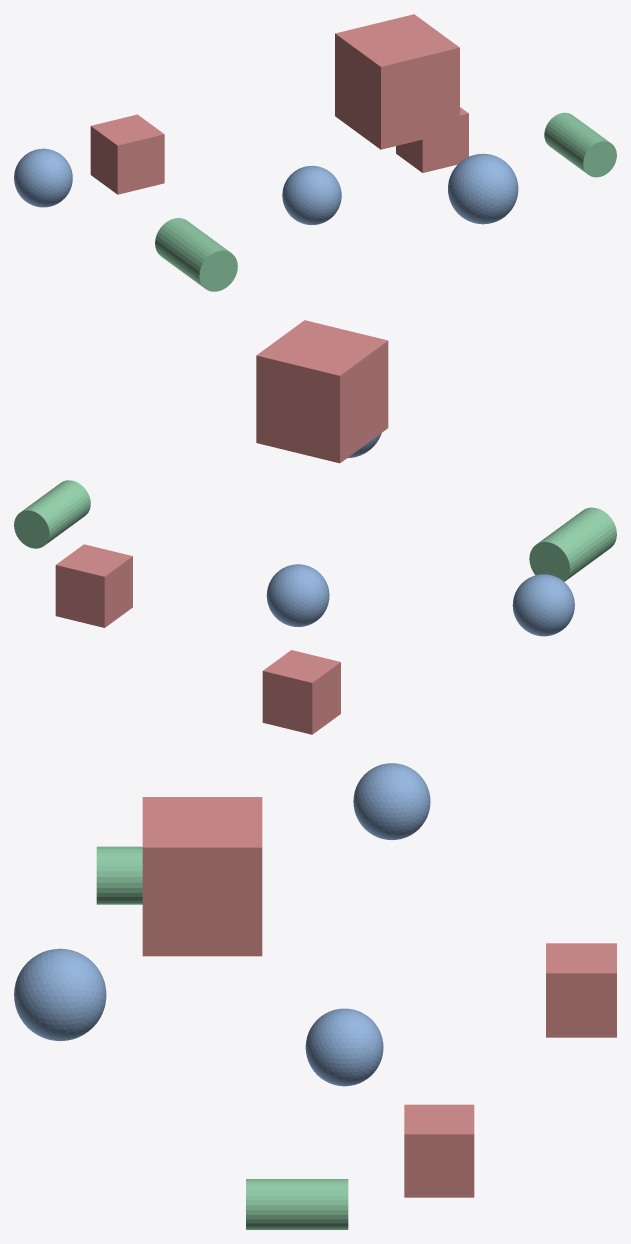
File: escena.glb
The picture shows the model from 3 angles, top to bottom: view 1: azimuth 30°, elevation 25°; view 2: azimuth 150°, elevation 25°; view 3: azimuth 270°, elevation 25°; orthographic projection. The views are drawn at different scales.
Parts seen in each view (by area): view 1: obj_007, obj_004, obj_003, obj_002, obj_005, obj_000, obj_006, obj_001; view 2: obj_007, obj_004, obj_001, obj_002, obj_005, obj_000, obj_006; view 3: obj_007, obj_003, obj_004, obj_001, obj_005, obj_000, obj_006, obj_002.
Part boxes in pixels (box(x1,y1,x2,y2)): obj_007: box(335, 14, 459, 149); obj_004: box(90, 114, 164, 194); obj_003: box(448, 153, 518, 224); obj_002: box(155, 218, 237, 291); obj_005: box(544, 112, 616, 177); obj_000: box(282, 165, 341, 225); obj_006: box(14, 148, 72, 207); obj_001: box(396, 107, 468, 172); obj_007: box(256, 320, 388, 463); obj_004: box(262, 650, 340, 734); obj_001: box(55, 544, 132, 627); obj_002: box(529, 507, 616, 581); obj_005: box(14, 480, 90, 548); obj_000: box(266, 564, 329, 626); obj_006: box(512, 574, 574, 636); obj_007: box(142, 797, 262, 956); obj_003: box(14, 948, 106, 1041); obj_004: box(546, 943, 616, 1037); obj_001: box(404, 1104, 474, 1197); obj_005: box(246, 1179, 348, 1229); obj_000: box(305, 1008, 383, 1086); obj_006: box(353, 763, 430, 840); obj_002: box(96, 846, 142, 904).
Size of the model in its own units: 8.68 by 3.26 by 6.36.
